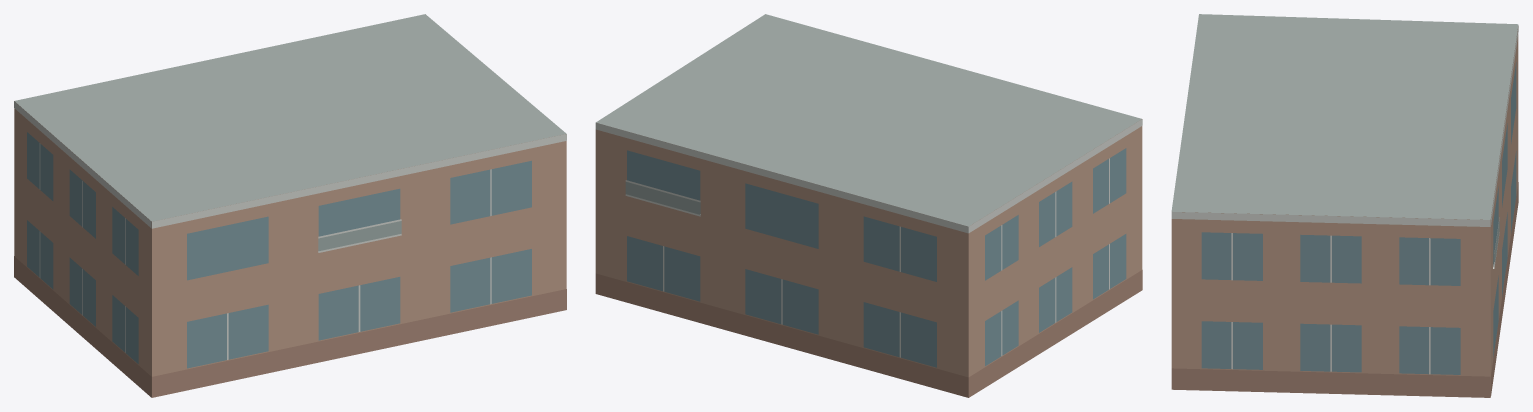
Rendered from survey-upis-32873136.glb.
3 views of the same model, side by side, from view 1: azimuth 30°, elevation 25°; view 2: azimuth 150°, elevation 25°; view 3: azimuth 270°, elevation 25° (orthographic). The views are drawn at different scales.
Parts seen in each view (by area): view 1: survey-upis-32873136.tmp; view 2: survey-upis-32873136.tmp; view 3: survey-upis-32873136.tmp.
Part boxes in pixels (<box>): survey-upis-32873136.tmp: <box>14,14,566,397</box>; survey-upis-32873136.tmp: <box>595,14,1142,397</box>; survey-upis-32873136.tmp: <box>1171,14,1518,397</box>.
Bounding box in the file's own units: 15.16 × 6.1 × 10.8.
